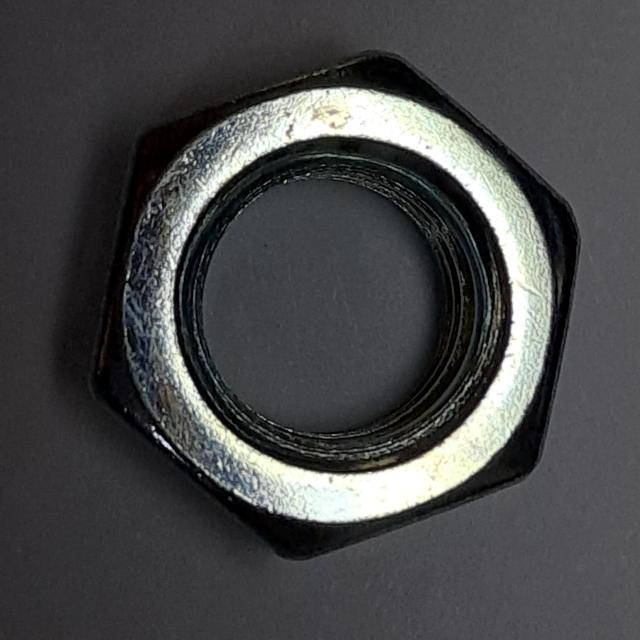Excellent: (79, 38, 591, 575)
